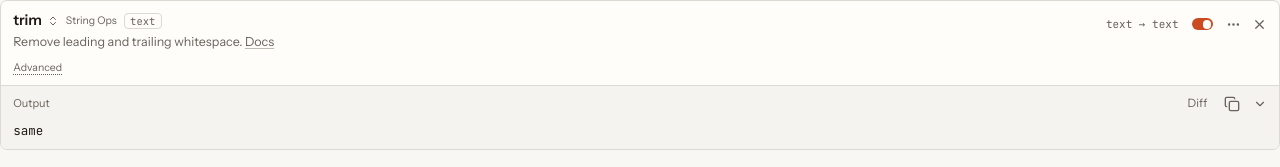
it: StepCard › offers copy and diff controls in the preview header
The width and height of the screenshot is (1280, 167).
Expected: the button named "copy" is shown, 1218,90 -> 1246,118
Click the button "Diff".
click(1197, 104)  # box 1181,92 -> 1214,114
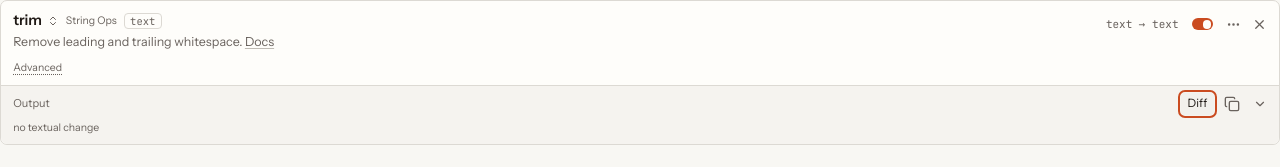
Expected: the text "no textual change" is shown, 13,121 -> 99,134
